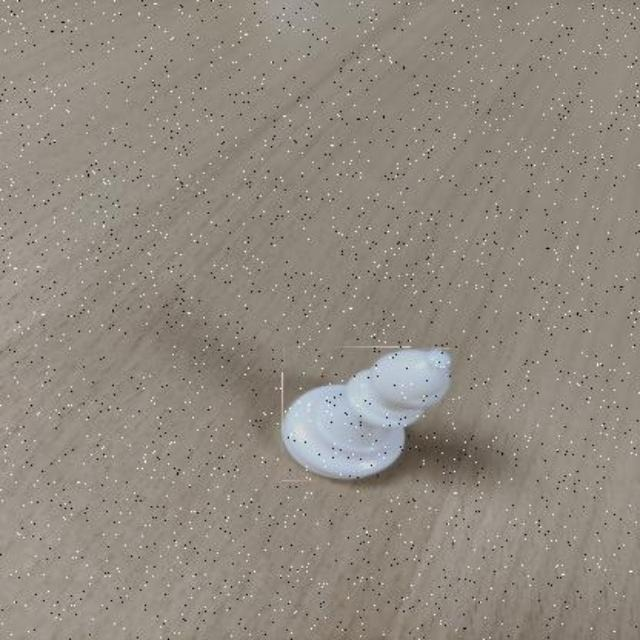white-bishop: (283, 347, 453, 483)
